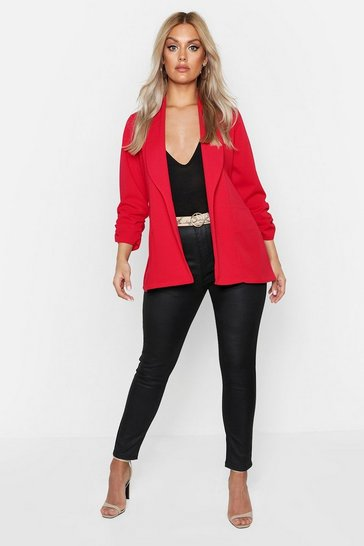F_W_suit jacket: (107, 87, 299, 279)
